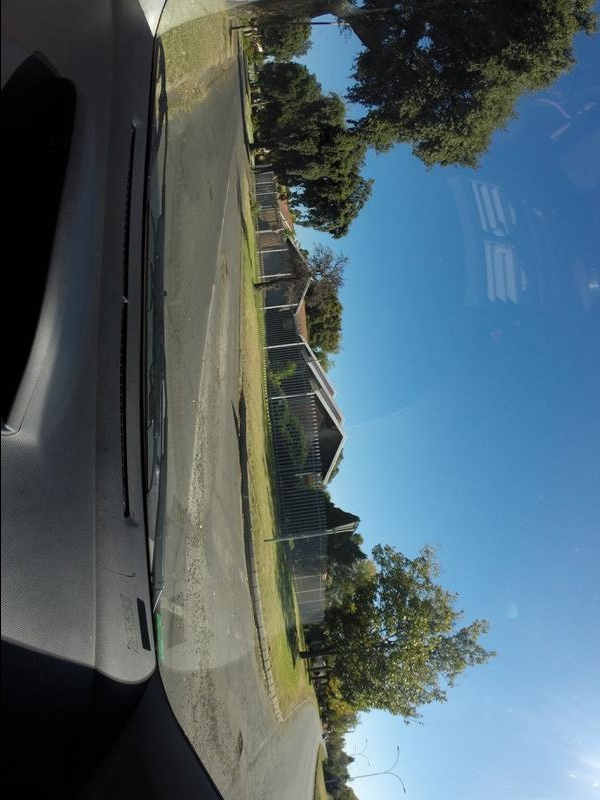pothole: (189, 417, 211, 631), (192, 653, 212, 744), (217, 248, 234, 286), (230, 729, 243, 762)
